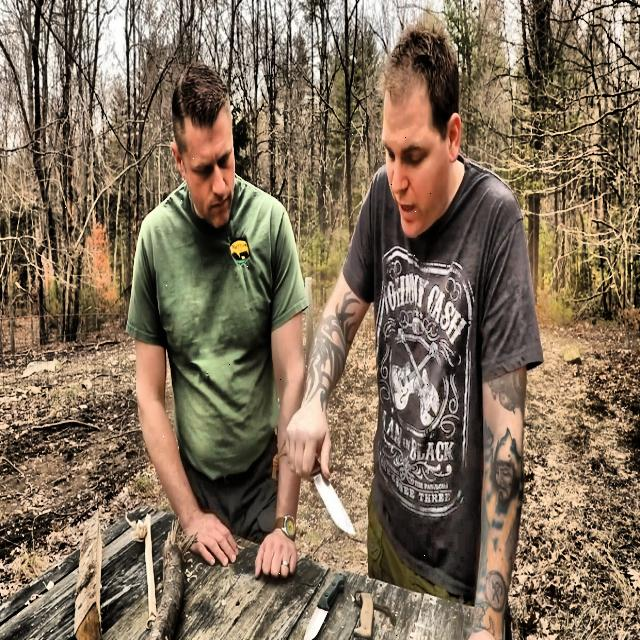knife: (312, 457, 355, 540), (306, 576, 342, 640), (352, 592, 372, 640)
